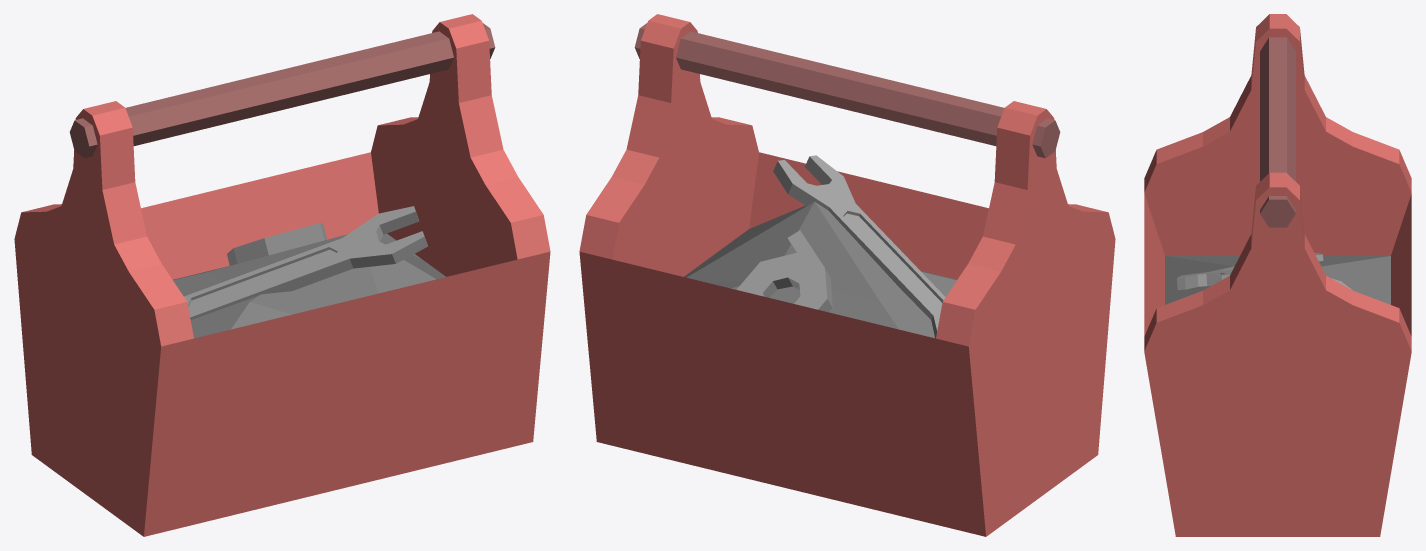
Rendered from Toolbox.fbx.
3 renders of one model, left to right at view 1: azimuth 30°, elevation 25°; view 2: azimuth 150°, elevation 25°; view 3: azimuth 270°, elevation 25°, orthographic. The views are drawn at different scales.
Parts seen in each view (by area): view 1: Cube; view 2: Cube; view 3: Cube.
Part boxes in pixels (x1,y1,x2,y2): Cube: (14,14,550,536); Cube: (579,14,1115,536); Cube: (1144,14,1411,536).
Size of the model in its own units: 0.4198 by 0.2628 by 0.379.
